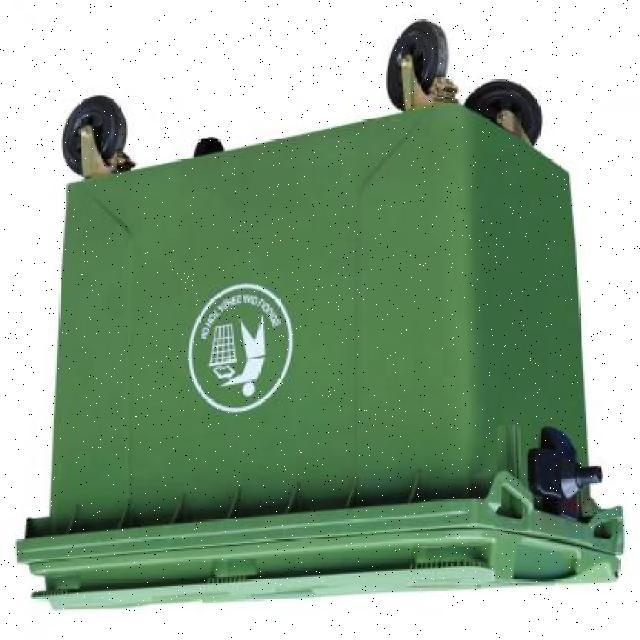garbage container: (9, 16, 635, 621)
